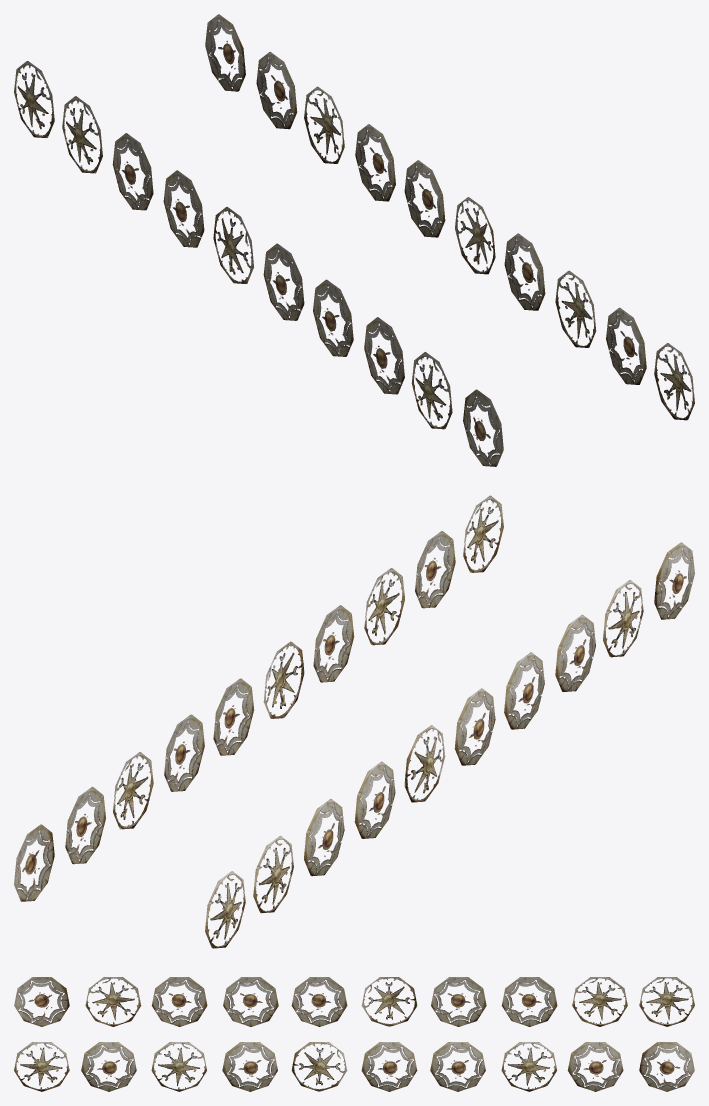
File: kart_bireme_shields_3.dae
3 renders of one model, top to bottom at view 1: azimuth 30°, elevation 25°; view 2: azimuth 150°, elevation 25°; view 3: azimuth 270°, elevation 25°, orthographic. The views are drawn at different scales.
Parts seen in each view (by area): view 1: Cylinder018; view 2: Cylinder018; view 3: Cylinder018.
Part boxes in pixels (x1,y1,x2,y2): Cylinder018: (14, 14, 694, 466); Cylinder018: (14, 495, 694, 948); Cylinder018: (14, 977, 694, 1091).
Bounding box in the file's own units: 4.96 × 1.68 × 20.9.
